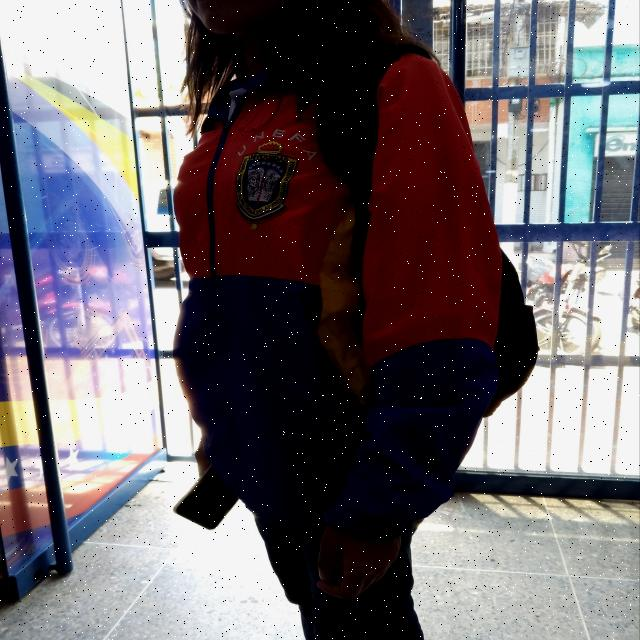chaqueta_unefa: (172, 52, 504, 541)
